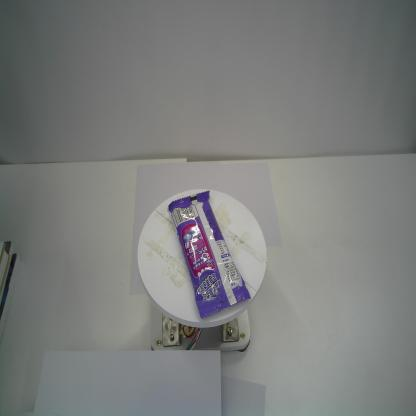Candy: (167, 189, 251, 320)
